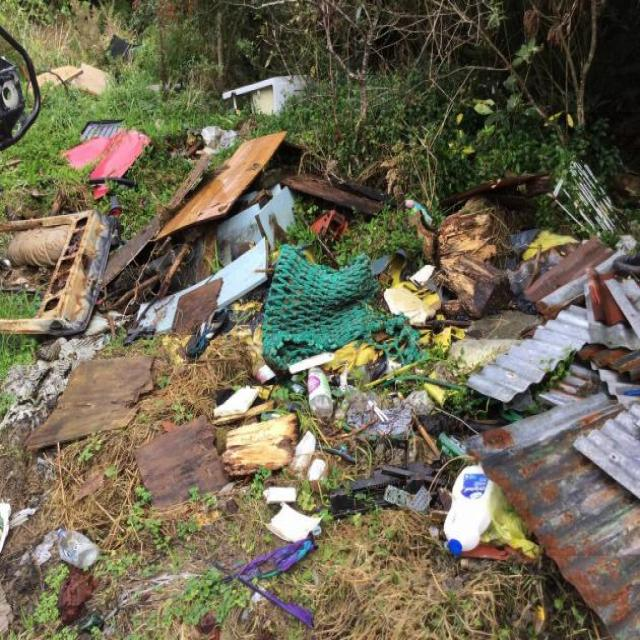dumping: (22, 112, 640, 556)
